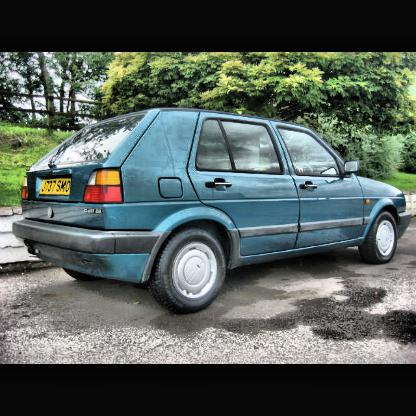Volkswagen Golf Hatchback 1991: (14, 107, 411, 315)
